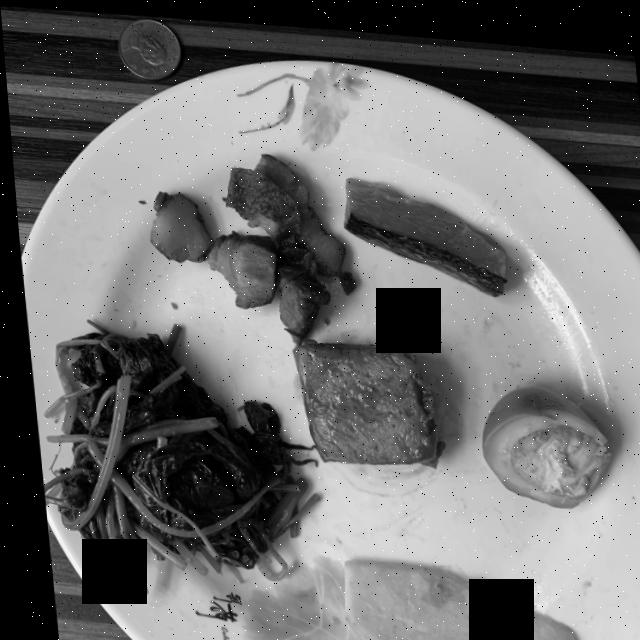coin: (116, 16, 179, 76)
creamy tofu: (286, 335, 431, 458)
grilled pork: (146, 149, 350, 338)
guava -sliced-: (333, 554, 564, 640)
pumpkin: (341, 171, 501, 287)
soy egg: (474, 378, 603, 498)
sweet potato leaves: (34, 322, 309, 596)
